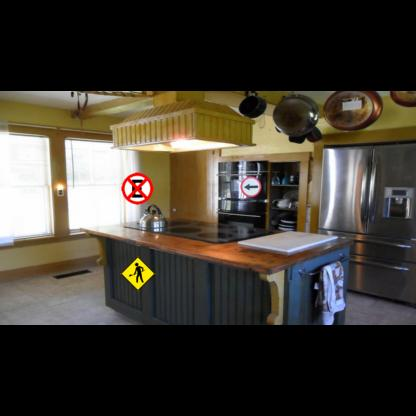A-24: (121, 256, 155, 291)
R-24a: (240, 177, 261, 197)
R-6c: (121, 173, 153, 205)
